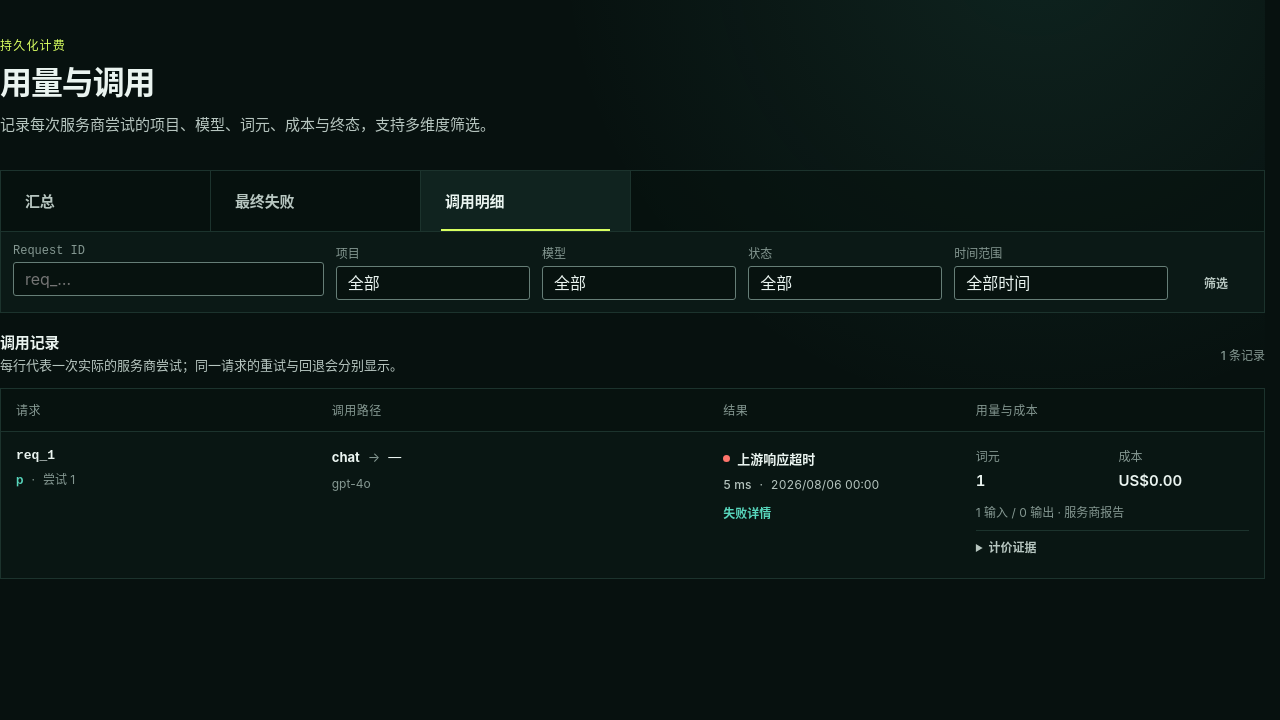
Test: UsagePage failure detail › shows all missing attribution fields as unrecorded on a legacy attempt
Expected: the text "上游响应超时" is shown, [723, 451, 815, 468]
Click the button "失败详情": (747,514) [723, 506, 771, 522]
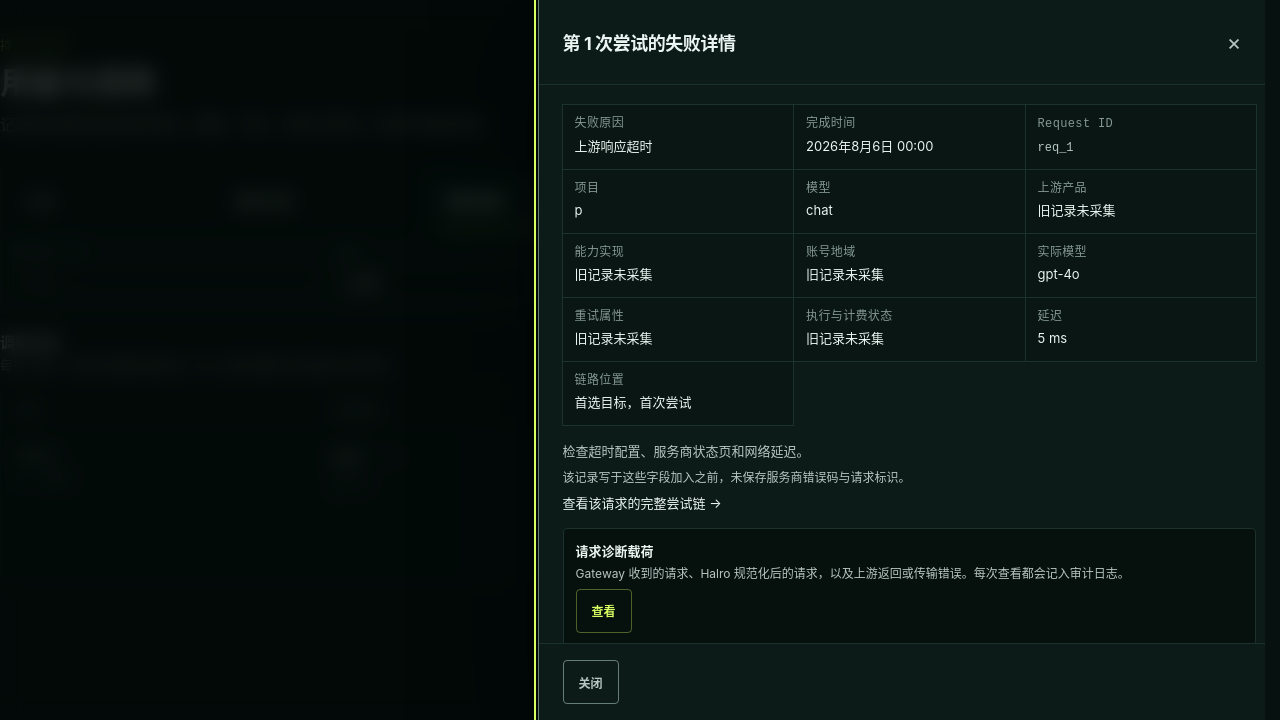
Expected: the text "旧记录未采集" is shown 5 times, [1038, 202, 1116, 218]; [575, 266, 653, 282]; [806, 266, 884, 282]; [575, 330, 653, 346]; [806, 330, 884, 346]
